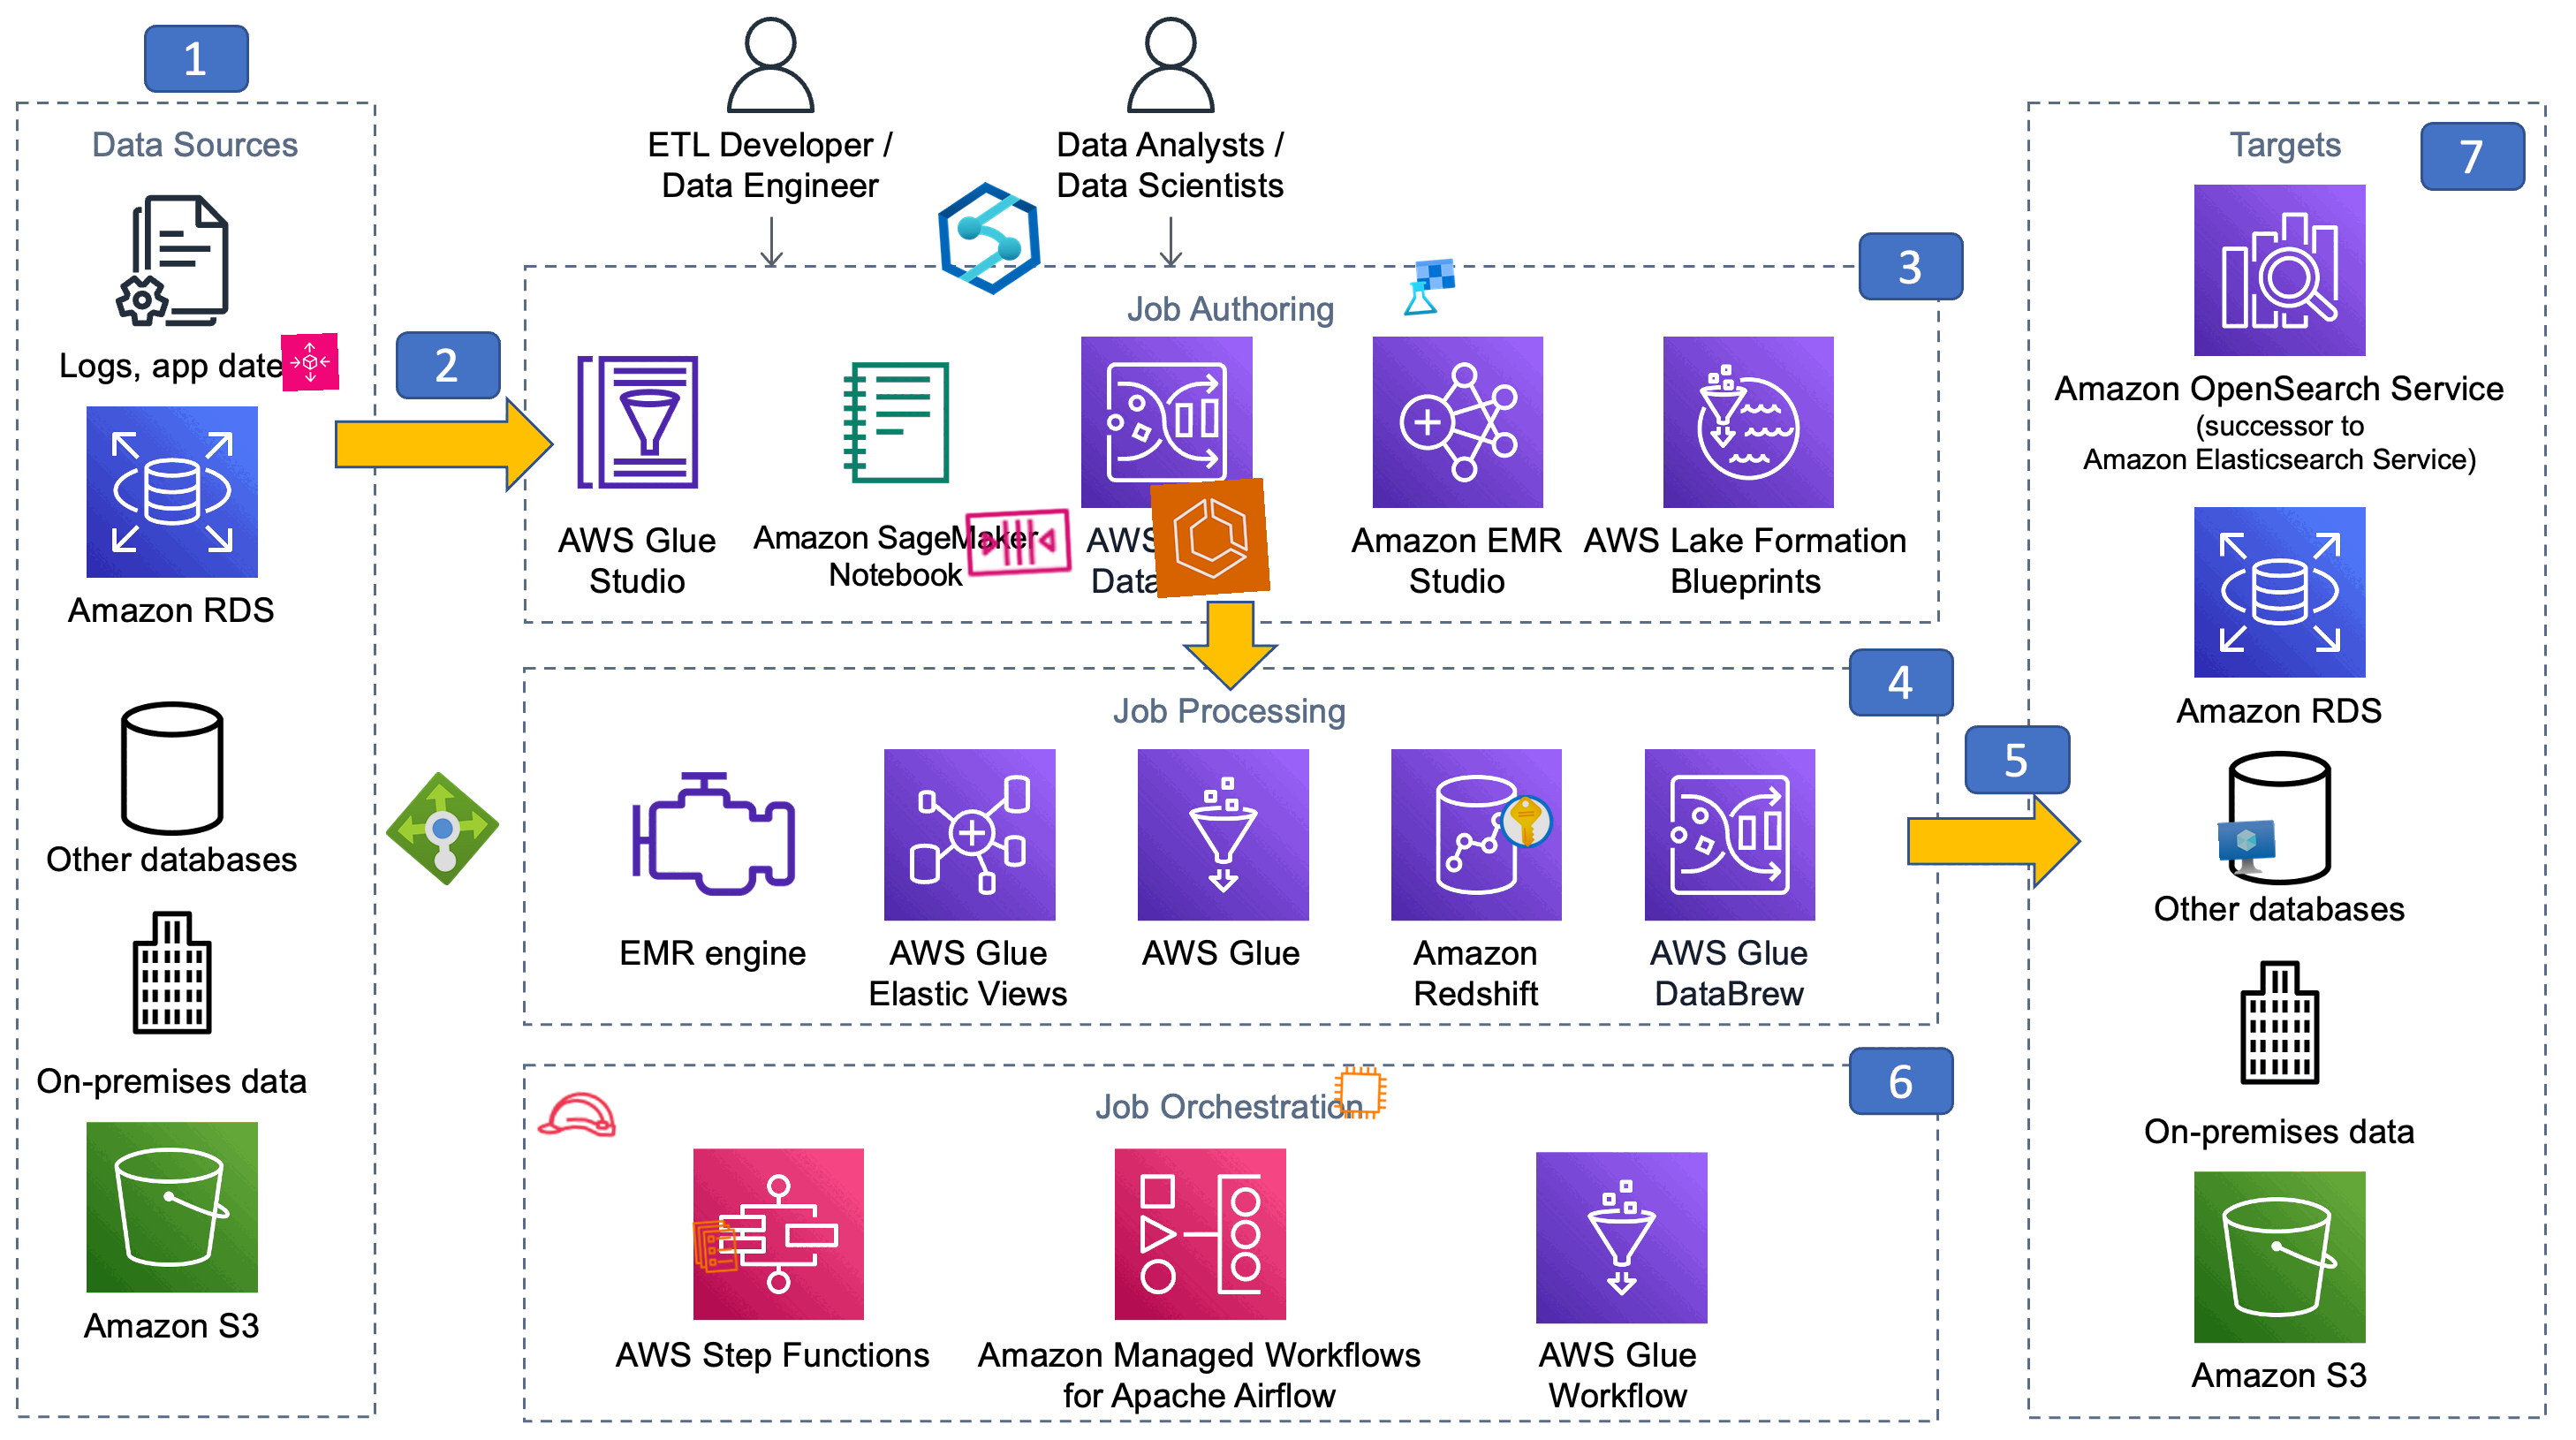aws_amazon_elastic_container_service: (1150, 478, 1272, 600)
aws_auto_scaling: (280, 333, 340, 393)
aws_ec2_instance: (1330, 1063, 1389, 1122)
aws_elastic_container_service_service: (685, 1215, 747, 1277)
aws_identity_access_management_role: (533, 1069, 625, 1160)
aws_simple_queue_service_queue: (959, 481, 1079, 601)
azure_key_vaults: (1497, 791, 1557, 851)
azure_load_balancers: (382, 768, 504, 890)
azure_machine_learning_studio_workspaces: (1398, 257, 1460, 318)
azure_synapse_analytics: (929, 177, 1051, 299)
azure_virtual_machine: (2217, 819, 2277, 879)
